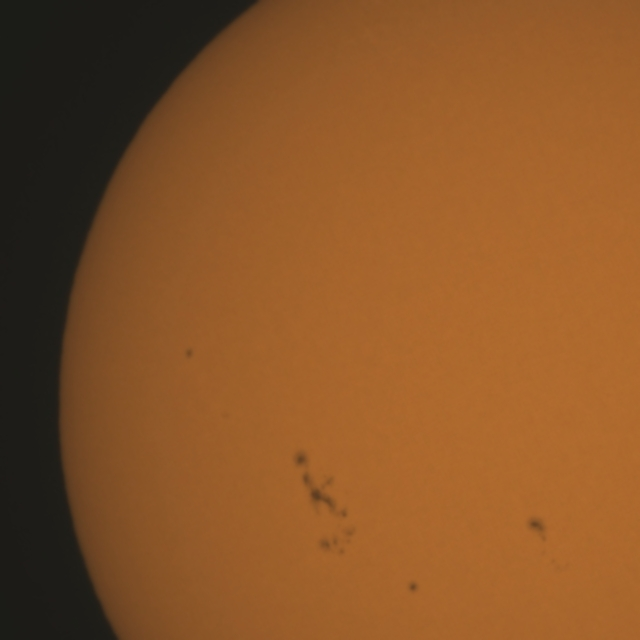sunspot: (303, 475, 352, 527), (295, 449, 338, 507), (292, 449, 316, 492), (317, 533, 353, 557), (526, 515, 549, 545), (406, 579, 420, 595), (183, 346, 196, 361), (220, 410, 232, 422)
